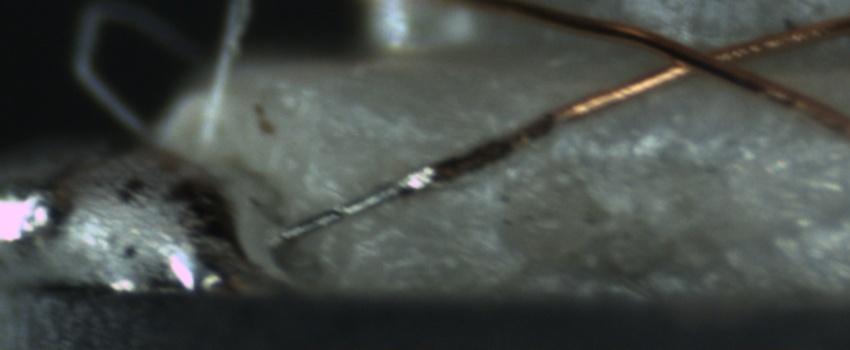CL: (631, 32, 774, 87)
DL: (342, 121, 850, 185)
TS: (273, 169, 428, 248)
TTCW: (268, 144, 482, 248)
